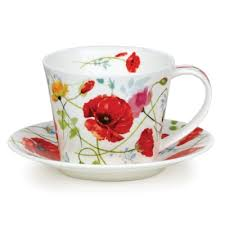cup: (38, 41, 225, 165)
